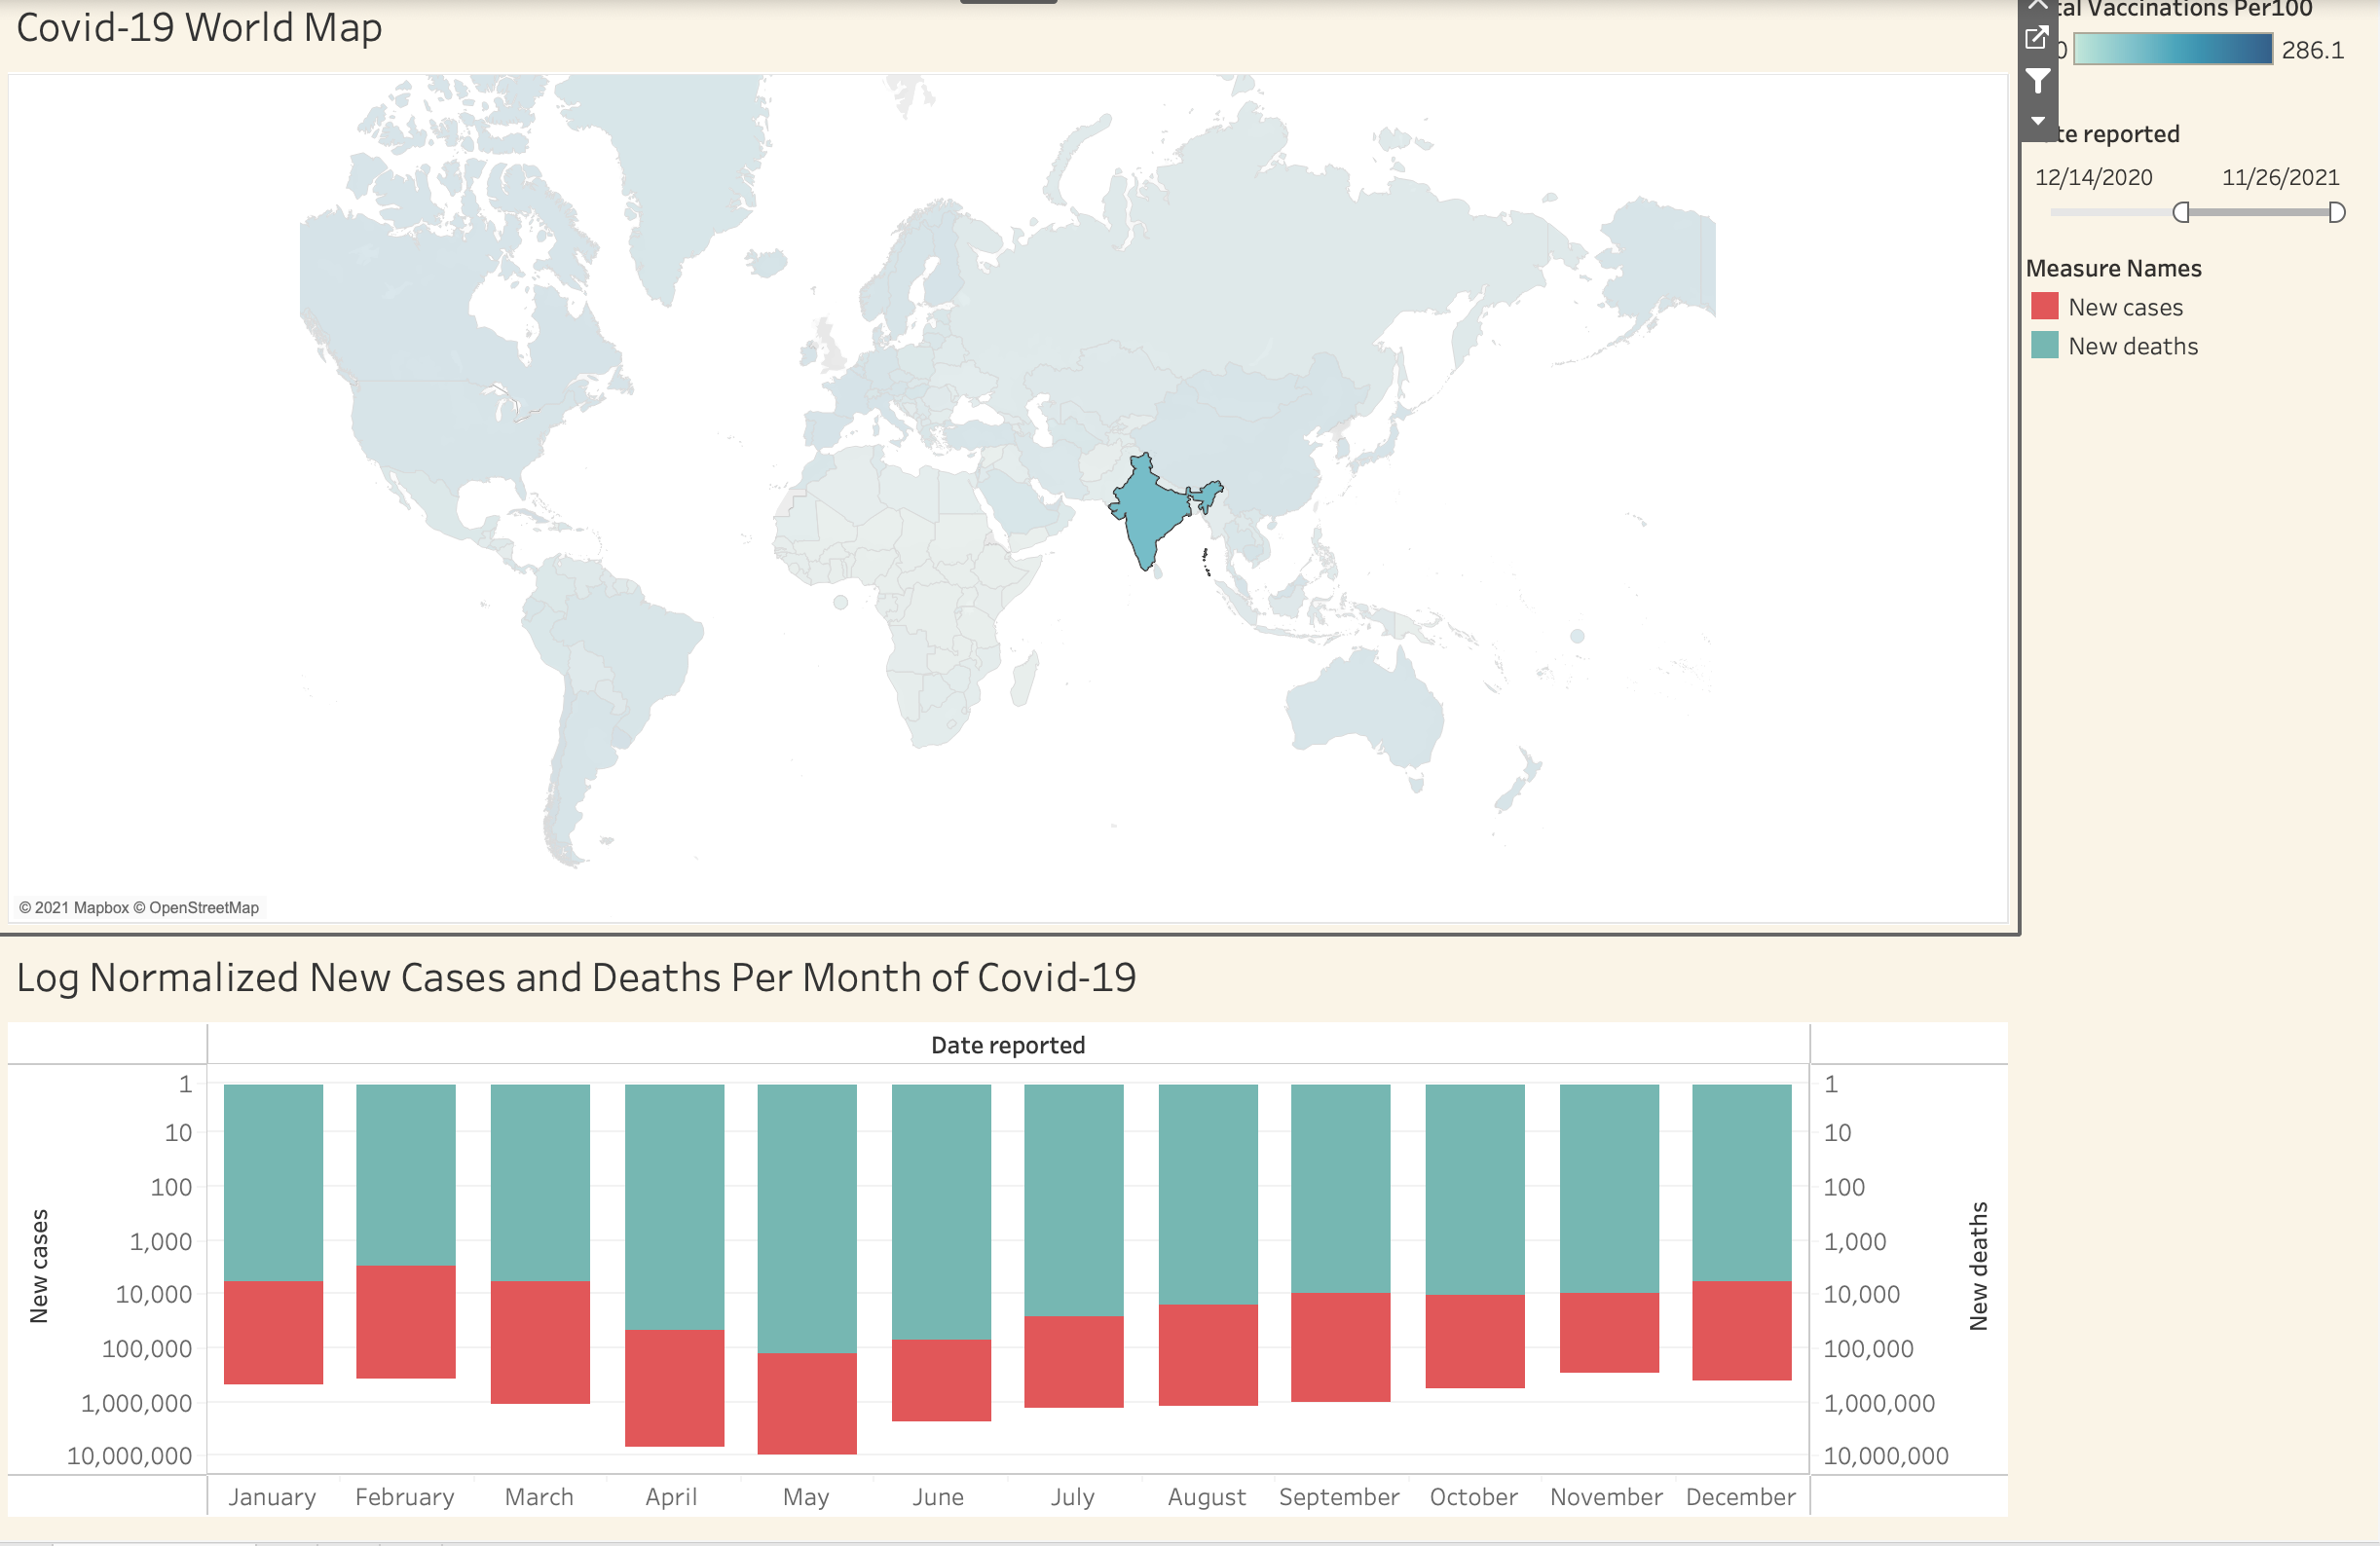

Layout of this report page (visuals, bound fields, positions):
{"tool":"tableau","page":{"name":"Dashboard 1","canvas":[1000,1000],"units":"permille","ordinal":0},"visuals":[{"type":"worksheet","title":"Sheet 1","mark":"Automatic","box":[6.5,9.9,843,603.9]},{"type":"legend","title":"Sheet 1","param":"[federated.1vvfp670pnrrzk1gov2pv14rkbml].[sum:TOTAL_VACCINATIONS_PER100:qk]","box":[849.5,9.9,144,80.4]},{"type":"filter","title":"Sheet 2","param":"[federated.1vvfp670pnrrzk1gov2pv14rkbml].[none:Date_reported:qk]","box":[849.5,90.3,144,85.4]},{"type":"legend","title":"Sheet 2","param":"[federated.1vvfp670pnrrzk1gov2pv14rkbml].[:Measure Names]","box":[849.5,175.7,144,81.7]},{"type":"worksheet","title":"Sheet 2","mark":"Bar","rows":["New_cases","New_deaths"],"cols":["Date_reported"],"box":[6.5,613.8,843,376.3]}]}

Visuals, with their boxes on the dashboard's canvas, which has no fixed pixel size, in thousandths of its width and height (x1, y1, x2, y2). These are canvas units, not pixel positions in the 2380x1546 screenshot, which may show the page scaled, cropped or inside an application window:
"Sheet 1" worksheet: {"x1": 6, "y1": 10, "x2": 850, "y2": 614}
"Sheet 1" legend: {"x1": 850, "y1": 10, "x2": 994, "y2": 90}
"Sheet 2" filter: {"x1": 850, "y1": 90, "x2": 994, "y2": 176}
"Sheet 2" legend: {"x1": 850, "y1": 176, "x2": 994, "y2": 257}
"Sheet 2" worksheet (Bar marks): {"x1": 6, "y1": 614, "x2": 850, "y2": 990}
